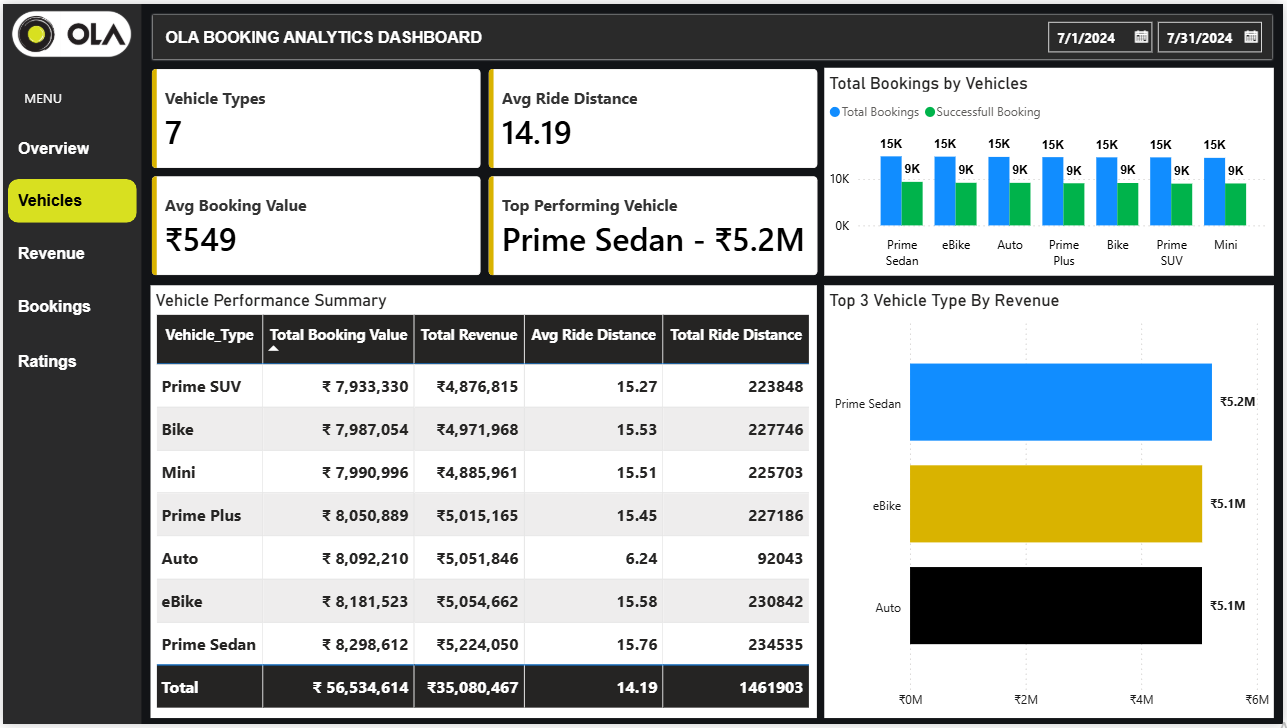

This screenshot's page, from the dashboard's own definition file:
{"tool":"powerbi","page":{"name":"Vehicle","canvas":[1280,720],"ordinal":1},"visuals":[{"type":"shape","box":[0,0,138.8,720],"z":0},{"type":"image","box":[8.8,2.5,120,55],"z":1000},{"type":"textbox","box":[16.2,80,53.8,28.8],"z":2000},{"type":"actionButton","box":[5,122.5,128.8,43.8],"z":3000},{"type":"actionButton","box":[5,175,128.8,43.8],"z":4000},{"type":"actionButton","box":[5,227.5,128.8,43.8],"z":5000},{"type":"actionButton","box":[5,281.2,128.8,43.8],"z":6000},{"type":"actionButton","box":[5,336.2,128.8,43.8],"z":7000},{"type":"shape","box":[147.5,8.8,1123.8,48.8],"z":8000},{"type":"textbox","box":[157.5,16.2,355,35],"z":9000},{"type":"slicer","fields":{"Values":["OLA_Booking_Dataset.Date"]},"box":[1032.6,7.4,239,45.6],"z":10000},{"type":"cardVisual","fields":{"Data":["OLA_Booking_Dataset.Vehicle Types","OLA_Booking_Dataset.Avg Rdie Distance","OLA_Booking_Dataset.Avg Booking Value","OLA_Booking_Dataset.Top Vehicle"]},"box":[148.5,64.7,667.3,207.3],"z":11000},{"type":"clusteredColumnChart","title":"Total Bookings by Vehicles","fields":{"Category":["OLA_Booking_Dataset.Vehicle_Type"],"Y":["OLA_Booking_Dataset.Total Bookings","OLA_Booking_Dataset.Successfull Booking"]},"box":[821.9,64.1,449.8,208.2],"z":12000},{"type":"barChart","title":"Top 3 Vehicle Type By Revenue","fields":{"Category":["OLA_Booking_Dataset.Vehicle_Type"],"Y":["OLA_Booking_Dataset.Total Revenue"]},"box":[821.9,280.9,449.8,432.5],"z":13000},{"type":"tableEx","title":"Vehicle Performance Summary","fields":{"Values":["OLA_Booking_Dataset.Vehicle_Type","Sum(OLA_Booking_Dataset.Booking_Value)","OLA_Booking_Dataset.Total Revenue","OLA_Booking_Dataset.Avg Ride Distance","Sum(OLA_Booking_Dataset.Ride_Distance)"]},"box":[147.9,280.9,666.6,432.5],"z":14000}]}

Visuals, with their boxes in screenshot pixels (x1, y1, x2, y2), scaled from the page's 1280x720 canvas onto the 1287x728 screenshot:
shape: (0, 0, 140, 727)
image: (9, 3, 130, 58)
textbox: (16, 81, 70, 110)
actionButton: (5, 124, 135, 168)
actionButton: (5, 177, 135, 221)
actionButton: (5, 230, 135, 274)
actionButton: (5, 284, 135, 329)
actionButton: (5, 340, 135, 384)
shape: (148, 9, 1278, 58)
textbox: (158, 16, 515, 52)
slicer - OLA_Booking_Dataset.Date: (1038, 7, 1279, 54)
cardVisual - OLA_Booking_Dataset.Vehicle Types x OLA_Booking_Dataset.Avg Rdie Distance: (149, 65, 820, 275)
"Total Bookings by Vehicles" clusteredColumnChart: (826, 65, 1279, 275)
"Top 3 Vehicle Type By Revenue" barChart: (826, 284, 1279, 721)
"Vehicle Performance Summary" tableEx: (149, 284, 819, 721)
